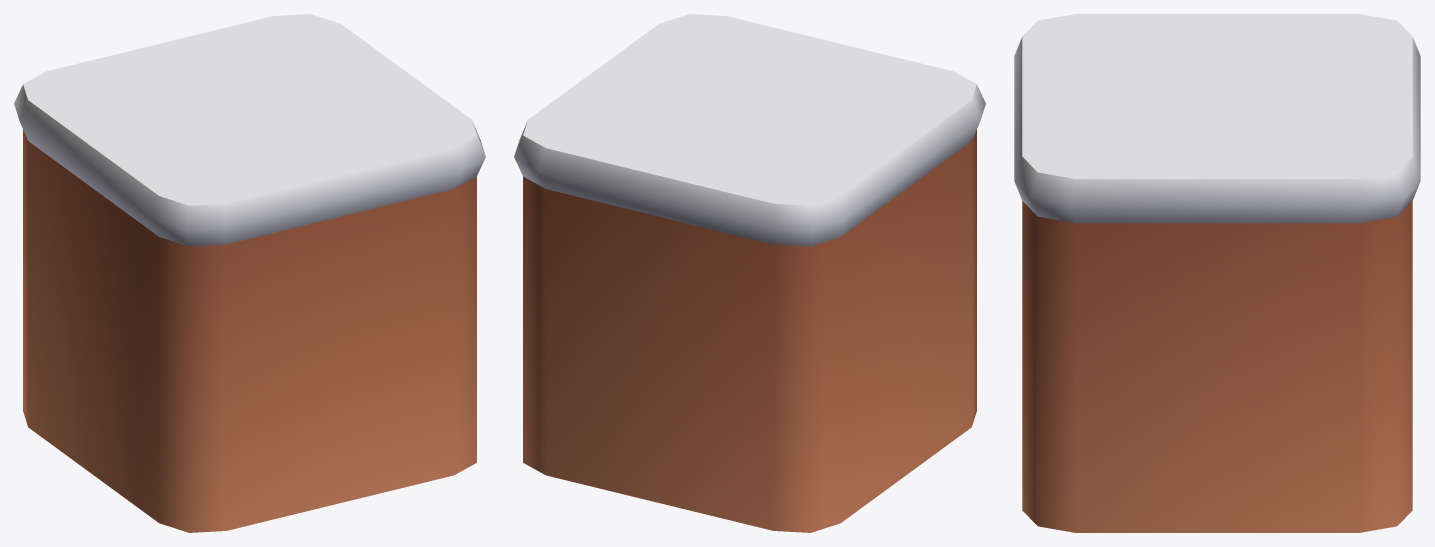
File: block-snow-large-tall.glb
3 renders of one model, left to right at view 1: azimuth 30°, elevation 25°; view 2: azimuth 150°, elevation 25°; view 3: azimuth 270°, elevation 25°, orthographic. The views are drawn at different scales.
Parts seen in each view (by area): view 1: block-snow-large-tall; view 2: block-snow-large-tall; view 3: block-snow-large-tall.
Boxes of the visible parts, x1=… form: block-snow-large-tall: x1=14, y1=14, x2=485, y2=532; block-snow-large-tall: x1=514, y1=14, x2=985, y2=532; block-snow-large-tall: x1=1014, y1=14, x2=1420, y2=532.
Size of the model in its own units: 2.08 by 2 by 2.08.
Materials: 1 (1 with a texture image).
